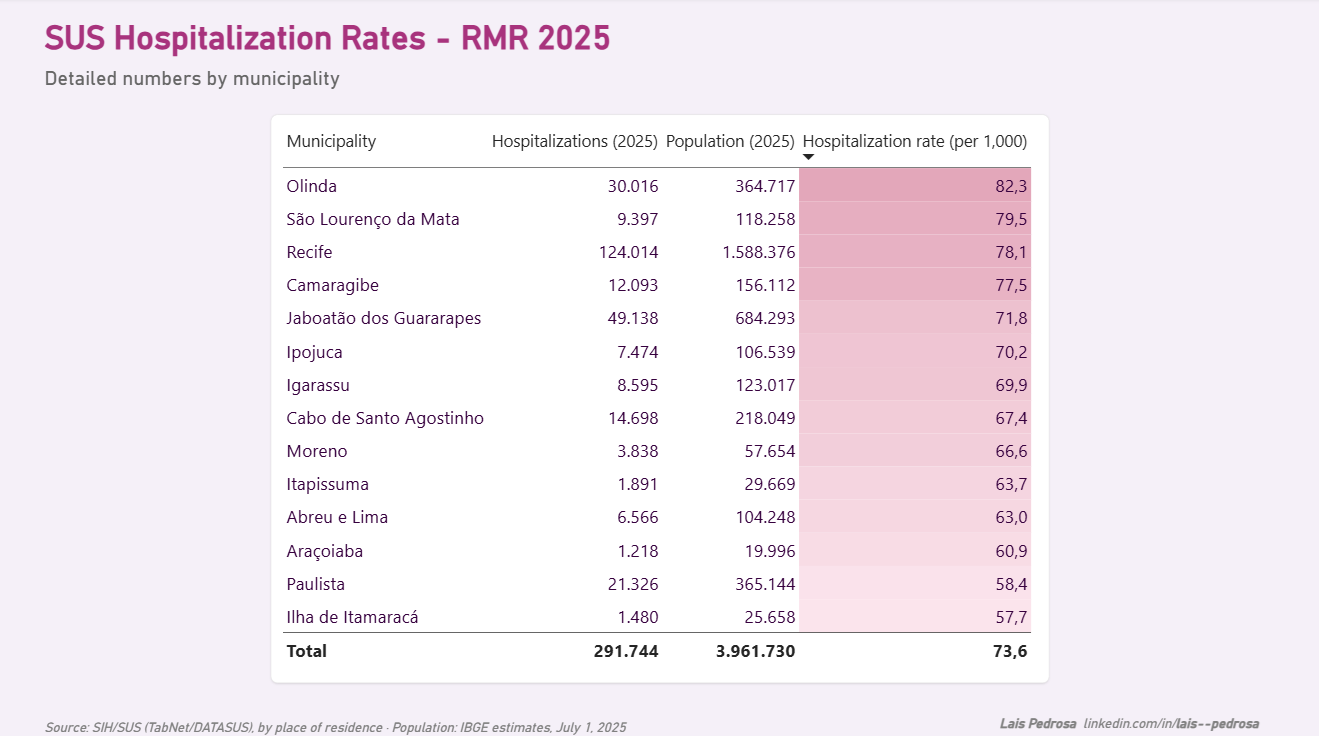

What the dashboard file says about the page in this screenshot:
{"tool":"powerbi","page":{"name":"Data","canvas":[1920,1080],"ordinal":1},"visuals":[{"type":"textbox","box":[713,0,211.7,133.9],"z":0},{"type":"textbox","box":[68.8,30.8,1035.1,124.9],"z":1000},{"type":"textbox","box":[68.8,99.5,1721,52.5],"z":2000},{"type":"textbox","box":[68.8,1040.2,1109.3,39.8],"z":3000},{"type":"tableEx","fields":{"Values":["RMR.Municipality","Sum(RMR.Hospitalizations (2025))","Sum(RMR.Population (2025))","RMR.Hospitalization rate (per 1,000)"]},"box":[395.9,169.4,1126.8,823],"z":4000},{"type":"textbox","box":[1451.3,1040.6,390.9,39.8],"z":4001}]}

Visuals, with their boxes in screenshot pixels (x1, y1, x2, y2), scaled from the page's 1920x1080 canvas onto the 1319x736 screenshot:
textbox: (490,0,635,91)
textbox: (47,21,758,106)
textbox: (47,68,1230,104)
textbox: (47,709,809,735)
tableEx - RMR.Municipality x Sum(RMR.Hospitalizations (2025)): (272,115,1046,676)
textbox: (997,709,1266,735)
